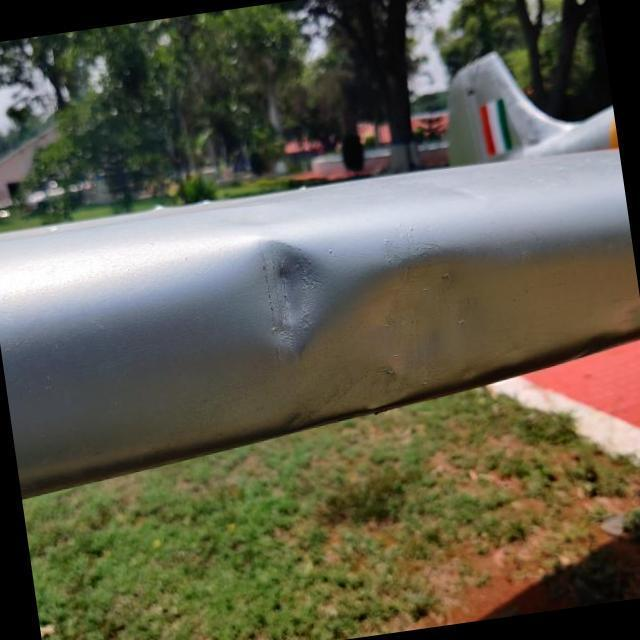Dent: (206, 214, 360, 389)
